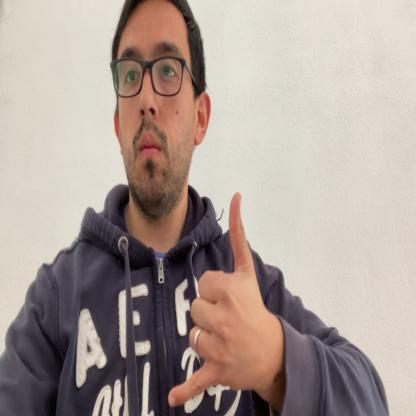Y: (167, 192, 276, 407)
